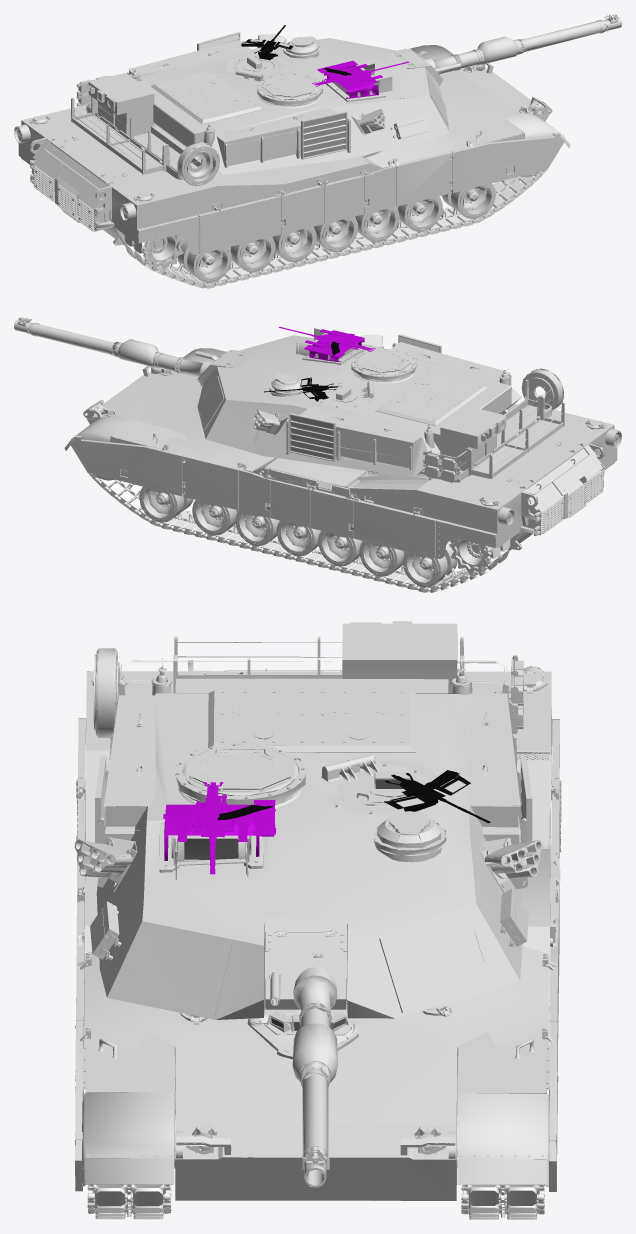
File: m1a2_tejas.glb
The picture shows the model from 3 angles, top to bottom: view 1: azimuth 30°, elevation 25°; view 2: azimuth 150°, elevation 25°; view 3: azimuth 270°, elevation 25°; orthographic projection. The views are drawn at different scales.
Parts seen in each view (by area): view 1: Hull, Turret, Track Pads - Right, Gun, Track Rods - Right, Rear Fender, CROWS, Crows Mount; view 2: Hull, Turret, Track Pads - Left, Gun, Track Rods - Left, Rear Fender, CROWS, Crows Mount; view 3: Turret, Hull, Gun, CROWS, Track Pads - Right, Track Pads - Left, Rear Fender, Gun Mantlet Flap, Crows Mount, M240 Shield.
Boxes of the visible parts, box(x1,y1,x2,y2) form: Hull: box(14, 45, 570, 282); Turret: box(71, 32, 449, 186); Track Pads - Right: box(124, 135, 544, 288); Gun: box(395, 14, 621, 86); Track Rods - Right: box(125, 168, 548, 287); Rear Fender: box(18, 143, 200, 254); CROWS: box(312, 60, 408, 87); Crows Mount: box(323, 65, 378, 98); Hull: box(64, 348, 621, 587); Turret: box(197, 328, 564, 482); Track Pads - Left: box(90, 474, 510, 592); Gun: box(14, 317, 246, 386); Track Rods - Left: box(87, 472, 508, 591); Rear Fender: box(434, 448, 617, 558); CROWS: box(279, 327, 375, 357); Crows Mount: box(309, 330, 364, 362); Turret: box(74, 621, 542, 1019); Hull: box(75, 660, 560, 1200); Gun: box(265, 928, 346, 1187); CROWS: box(163, 782, 276, 874); Track Pads - Right: box(95, 1184, 163, 1219); Track Pads - Left: box(468, 1185, 537, 1219); Rear Fender: box(76, 716, 561, 852); Gun Mantlet Flap: box(265, 918, 346, 932); Crows Mount: box(164, 804, 259, 860); M240 Shield: box(384, 775, 470, 809).
Size of the model in its own units: 9.76 by 2.54 by 3.7.
